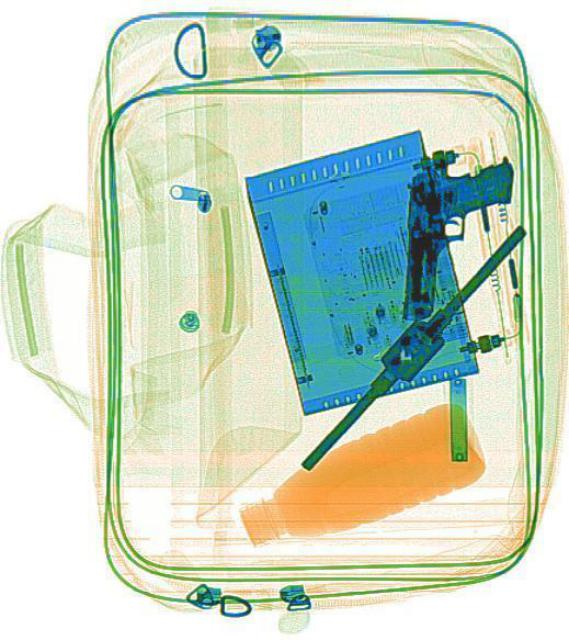Gun: (397, 143, 513, 321)
